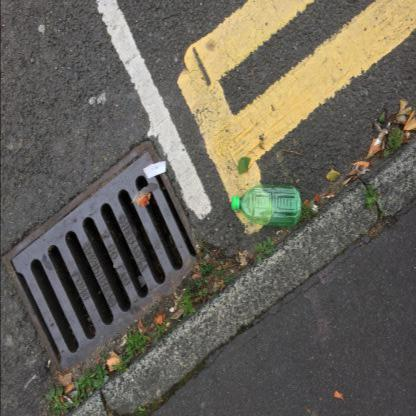Bottle cap: (231, 184, 301, 227)
Paper: (143, 161, 166, 178)
